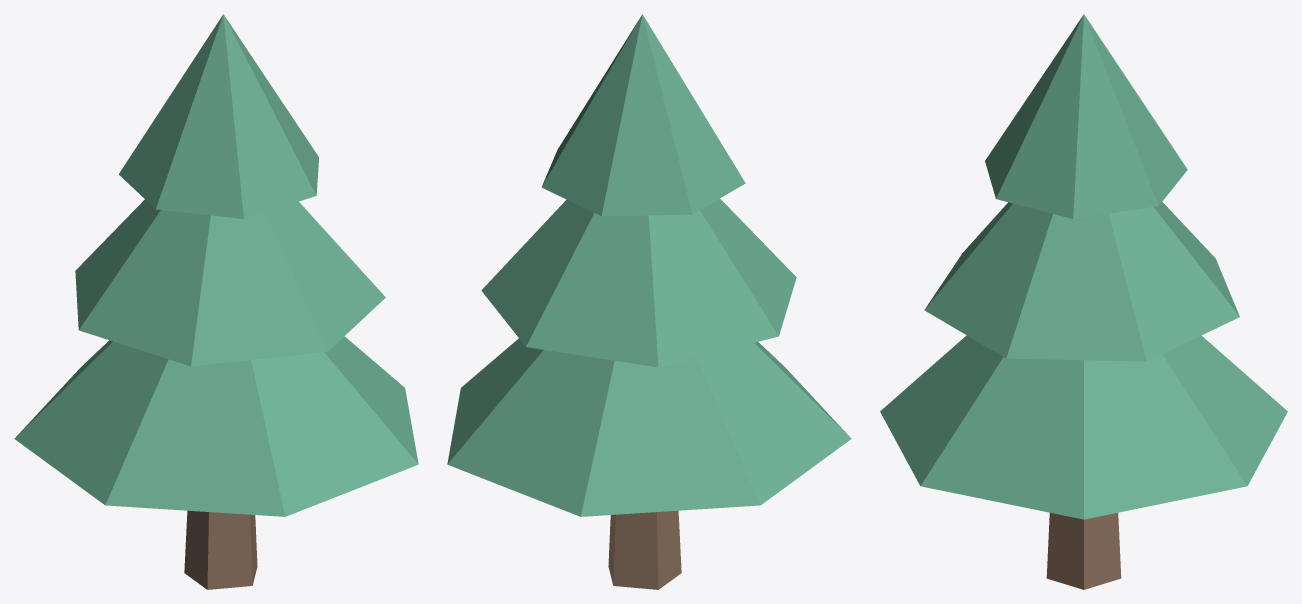
File: tree.glb
3 views of the same model, side by side, from view 1: azimuth 30°, elevation 25°; view 2: azimuth 150°, elevation 25°; view 3: azimuth 270°, elevation 25° (orthographic).
Visible parts, largest first — view 1: tree; view 2: tree; view 3: tree.
Boxes of the visible parts, bbox=[...] form: tree: bbox=[14, 14, 418, 589]; tree: bbox=[447, 14, 851, 589]; tree: bbox=[880, 14, 1287, 589].
Size of the model in its own units: 0.7604 by 1.18 by 0.7799.
